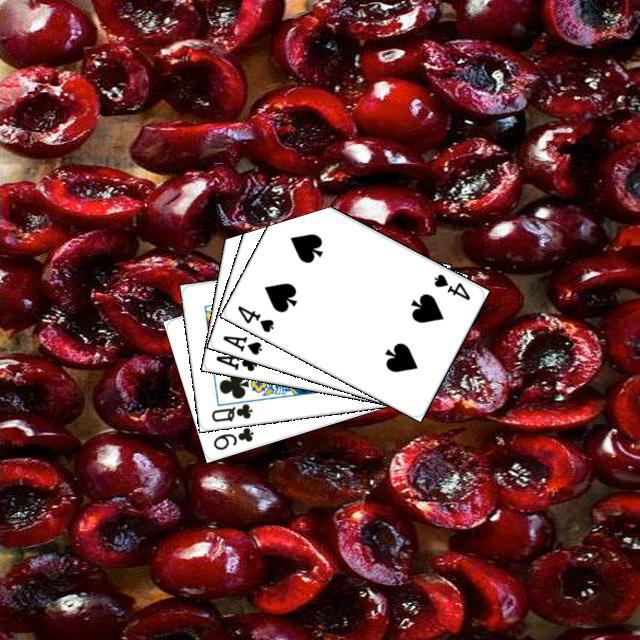4s: (232, 301, 276, 334), (429, 269, 472, 302)
9c: (208, 422, 255, 452)
Ac: (211, 349, 259, 373)
As: (218, 330, 264, 357)
Qc: (206, 394, 257, 424)
